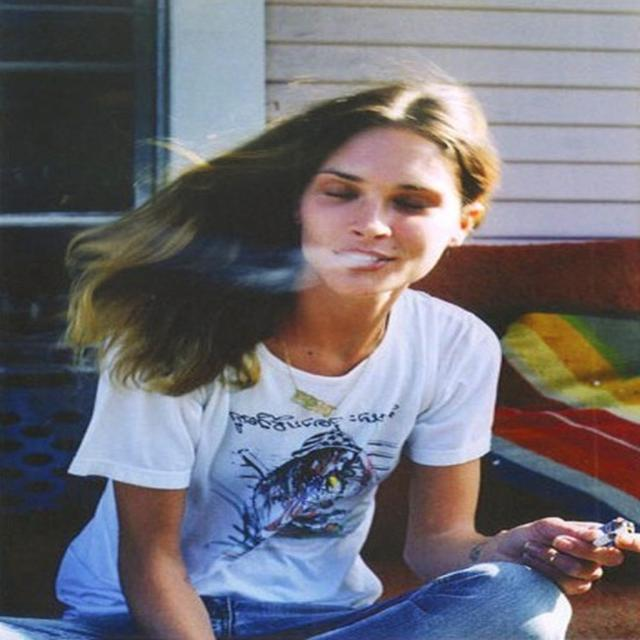smoking: (125, 80, 635, 606)
